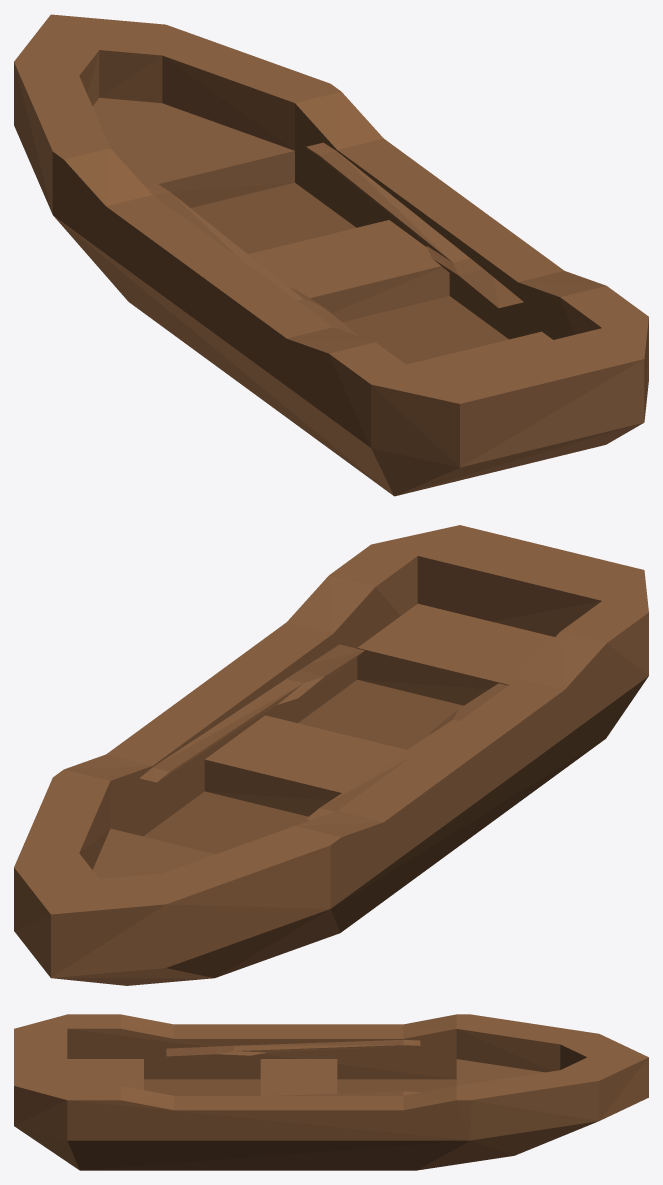
File: rowboat.glb
3 renders of one model, top to bottom at view 1: azimuth 30°, elevation 25°; view 2: azimuth 150°, elevation 25°; view 3: azimuth 270°, elevation 25°, orthographic. The views are drawn at different scales.
Parts seen in each view (by area): view 1: hull, oar_starboard, oar_port; view 2: hull, oar_starboard, oar_port; view 3: hull, oar_port, oar_starboard.
Part boxes in pixels (bbox=[...]): hull: bbox=[14, 14, 648, 496]; oar_starboard: bbox=[306, 142, 523, 308]; oar_port: bbox=[145, 183, 358, 335]; hull: bbox=[14, 525, 648, 985]; oar_starboard: bbox=[139, 644, 364, 782]; oar_port: bbox=[306, 683, 507, 819]; hull: bbox=[14, 1014, 648, 1170]; oar_port: bbox=[166, 1039, 420, 1057]; oar_starboard: bbox=[211, 1091, 420, 1095].
Size of the model in its own units: 1.6 by 0.7 by 5.
